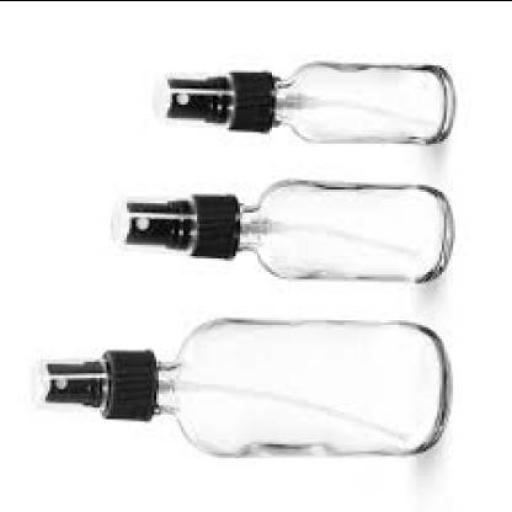glass: (151, 322, 447, 455), (234, 186, 453, 282), (269, 66, 451, 146)
plastic: (27, 349, 151, 423), (106, 195, 234, 262), (152, 74, 270, 135)
